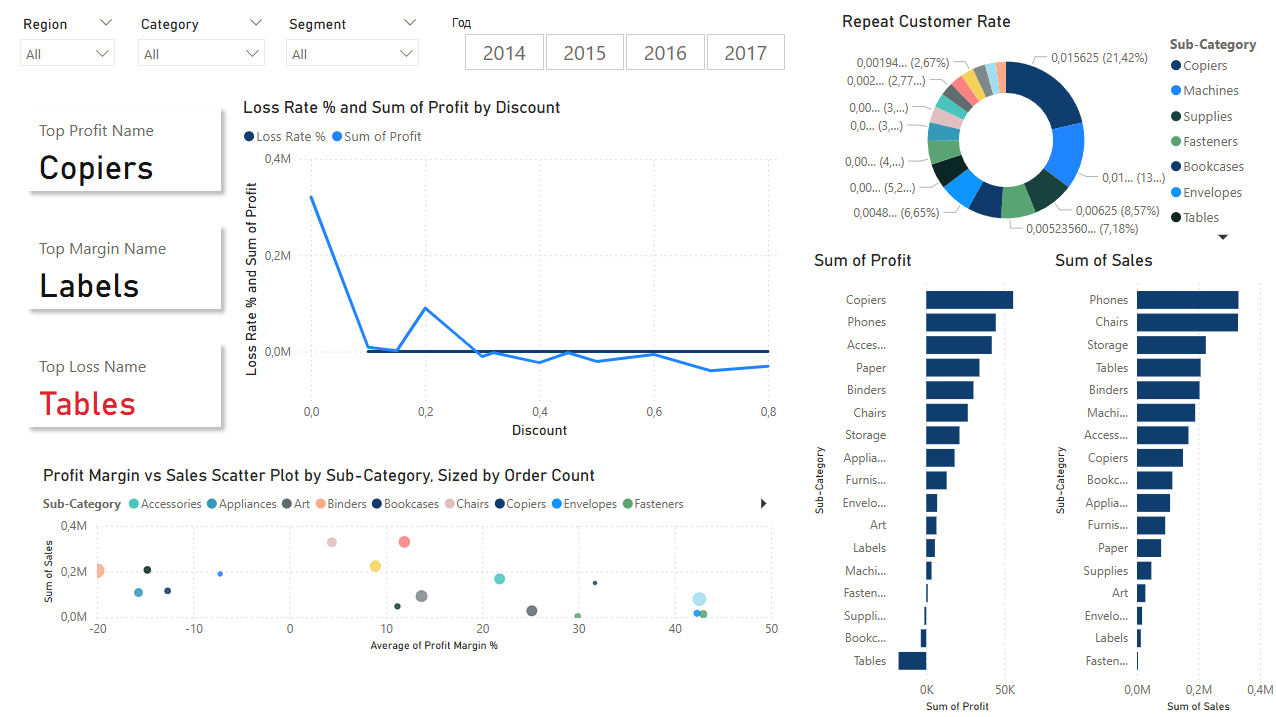

The page's visual inventory and layout, read from the dashboard file:
{"tool":"powerbi","page":{"name":"Product Deep Dive","canvas":[1280,720],"ordinal":2},"visuals":[{"type":"scatterChart","title":"Profit Margin vs Sales Scatter Plot by Sub-Category, Sized by Order Count","fields":{"Y":["Sum(fact_orders.Sales)"],"Series":["fact_orders.Sub-Category"],"Size":["fact_orders.Order Count"],"X":["Avg(fact_orders.Profit Margin %)"]},"box":[38.8,467.5,745,191.2],"z":0},{"type":"clusteredBarChart","title":"Sum of Profit","fields":{"Category":["fact_orders.Sub-Category"],"Y":["Sum(fact_orders.Profit)"]},"box":[810,252.7,226.4,467.3],"z":1000},{"type":"slicer","fields":{"Values":["fact_orders.Region"]},"box":[11.2,13.8,115,62.5],"z":2000},{"type":"slicer","fields":{"Values":["fact_orders.Category"]},"box":[128.8,13.8,147.5,62.5],"z":3000},{"type":"slicer","fields":{"Values":["fact_orders.Segment"]},"box":[277.1,14.3,152.9,62.9],"z":4000},{"type":"slicer","fields":{"Values":["fact_orders.Order Date.Изменение.Иерархия дат.Год"]},"box":[440,14,370,62],"z":5000},{"type":"clusteredBarChart","title":"Sum of Sales ","fields":{"Category":["fact_orders.Sub-Category"],"Y":["Sum(fact_orders.Sales)"]},"box":[1051.2,252.5,228.8,467.5],"z":6000},{"type":"cardVisual","fields":{"Data":["fact_orders.Top_Profit_Name"]},"box":[11,93,228,118],"z":7000},{"type":"cardVisual","fields":{"Data":["fact_orders.Top_Margin_Name"]},"box":[11,211,228,118],"z":8000},{"type":"cardVisual","fields":{"Data":["fact_orders.Top Loss Name"]},"box":[11,329,228,118],"z":9000},{"type":"lineChart","fields":{"Category":["fact_orders.Discount"],"Y":["fact_orders.Loss Rate %","Sum(fact_orders.Profit)"]},"box":[238.8,100,545,346.2],"z":10000},{"type":"donutChart","title":"Repeat Customer Rate ","fields":{"Category":["fact_orders.Sub-Category"],"Y":["fact_orders.Repeat Customer Rate"]},"box":[854.3,14.3,425.7,238.6],"z":11000}]}

Visuals, with their boxes in screenshot pixels (x1, y1, x2, y2), scaled from the page's 1280x720 canvas onto the 1276x717 screenshot:
"Profit Margin vs Sales Scatter Plot by Sub-Category, Sized by Order Count" scatterChart: (39, 466, 781, 656)
"Sum of Profit" clusteredBarChart: (807, 252, 1033, 716)
slicer - fact_orders.Region: (11, 14, 126, 76)
slicer - fact_orders.Category: (128, 14, 275, 76)
slicer - fact_orders.Segment: (276, 14, 429, 77)
slicer - fact_orders.Order Date.Изменение.Иерархия дат.Год: (439, 14, 807, 76)
"Sum of Sales " clusteredBarChart: (1048, 251, 1275, 716)
cardVisual - fact_orders.Top_Profit_Name: (11, 93, 238, 210)
cardVisual - fact_orders.Top_Margin_Name: (11, 210, 238, 328)
cardVisual - fact_orders.Top Loss Name: (11, 328, 238, 445)
lineChart - fact_orders.Discount x fact_orders.Loss Rate %: (238, 100, 781, 444)
"Repeat Customer Rate " donutChart: (852, 14, 1275, 252)
